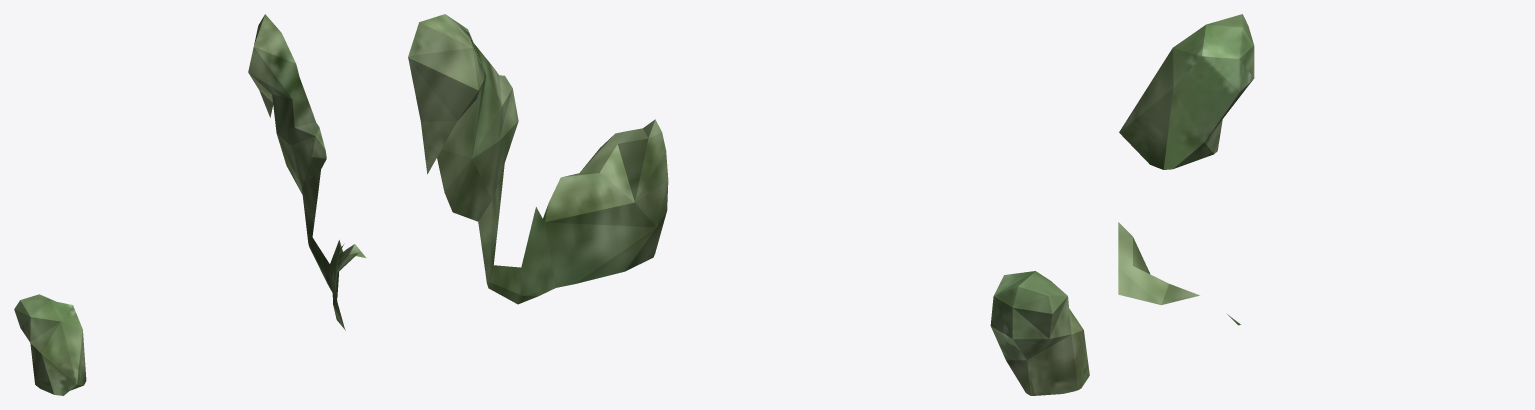
3 views of the same model, side by side, from view 1: azimuth 30°, elevation 25°; view 2: azimuth 150°, elevation 25°; view 3: azimuth 270°, elevation 25° (orthographic). The views are drawn at different scales.
Size of the model in its own units: 1.32 by 0.8702 by 0.8533.
1 material, 1 textured.
